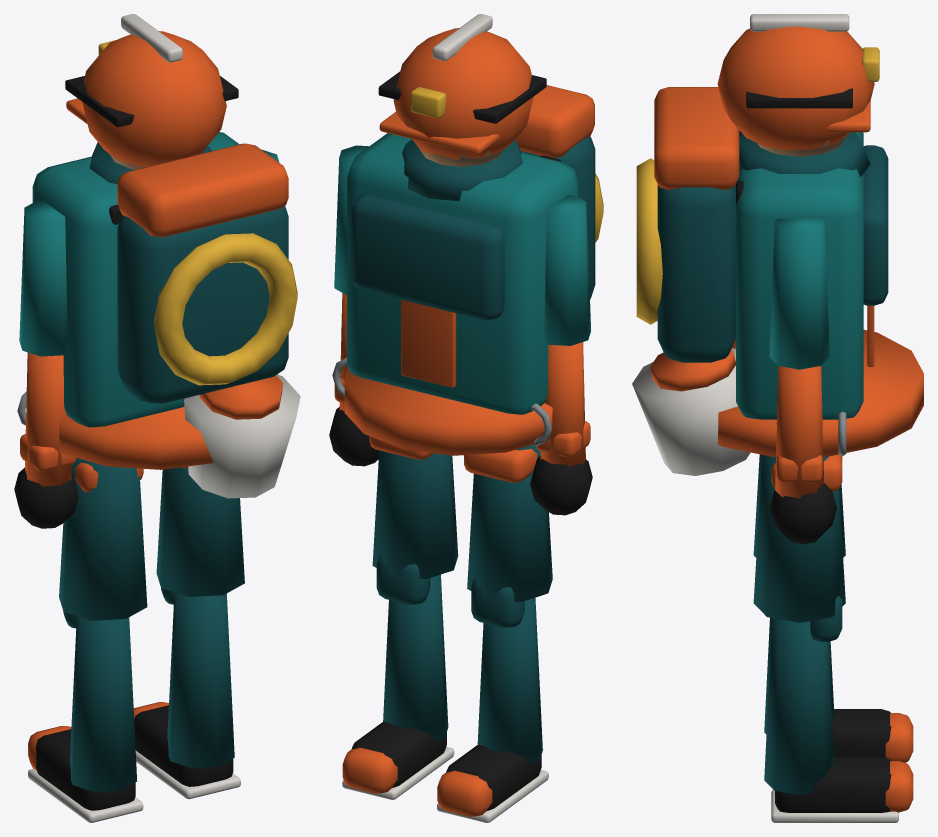
File: climber.glb
3 views of the same model, side by side, from view 1: azimuth 30°, elevation 25°; view 2: azimuth 150°, elevation 25°; view 3: azimuth 270°, elevation 25° (orthographic). The views are drawn at different scales.
Visible parts, largest first — view 1: torso, head, sh_L, sh_R, th_L, th_R, lo_L, up_L; view 2: torso, head, sh_R, sh_L, th_R, th_L, lo_L, up_L, lo_R, up_R; view 3: torso, head, sh_R, lo_R, th_R, up_R, sh_L, th_L.
Boxes of the visible parts, <box> form: torso: <box>17,132,300,498</box>; head: <box>65,14,238,169</box>; sh_L: <box>28,612,143,822</box>; sh_R: <box>133,588,240,799</box>; th_L: <box>59,458,147,620</box>; th_R: <box>156,467,244,596</box>; lo_L: <box>14,352,78,528</box>; up_L: <box>19,201,67,356</box>; torso: <box>332,85,603,482</box>; head: <box>378,14,546,166</box>; sh_R: <box>342,555,454,799</box>; sh_L: <box>437,578,548,822</box>; th_R: <box>372,450,458,578</box>; th_L: <box>467,445,552,601</box>; lo_L: <box>530,342,592,515</box>; up_L: <box>544,195,590,345</box>; lo_R: <box>329,293,379,466</box>; up_R: <box>334,145,368,294</box>; torso: <box>632,87,923,491</box>; head: <box>717,14,879,156</box>; sh_R: <box>764,596,913,822</box>; lo_R: <box>769,366,836,544</box>; th_R: <box>753,455,845,622</box>; up_R: <box>769,218,829,369</box>; sh_L: <box>764,617,913,762</box>; th_L: <box>753,454,845,557</box>.
Bounding box in the file's own units: 0.87 × 2.4 × 0.8224.
